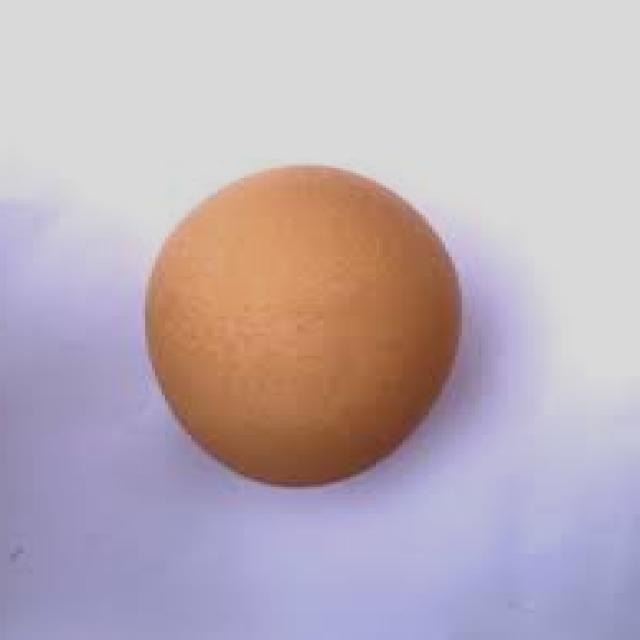telur: (139, 161, 464, 490)
